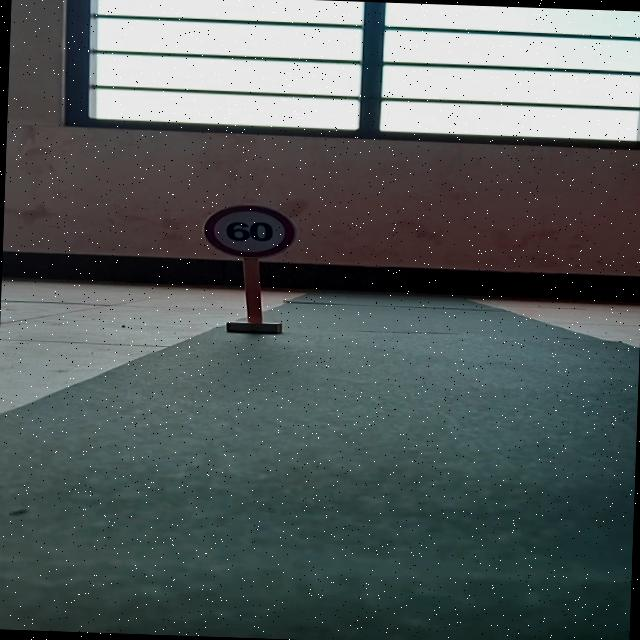Speed60: (197, 200, 301, 262)
